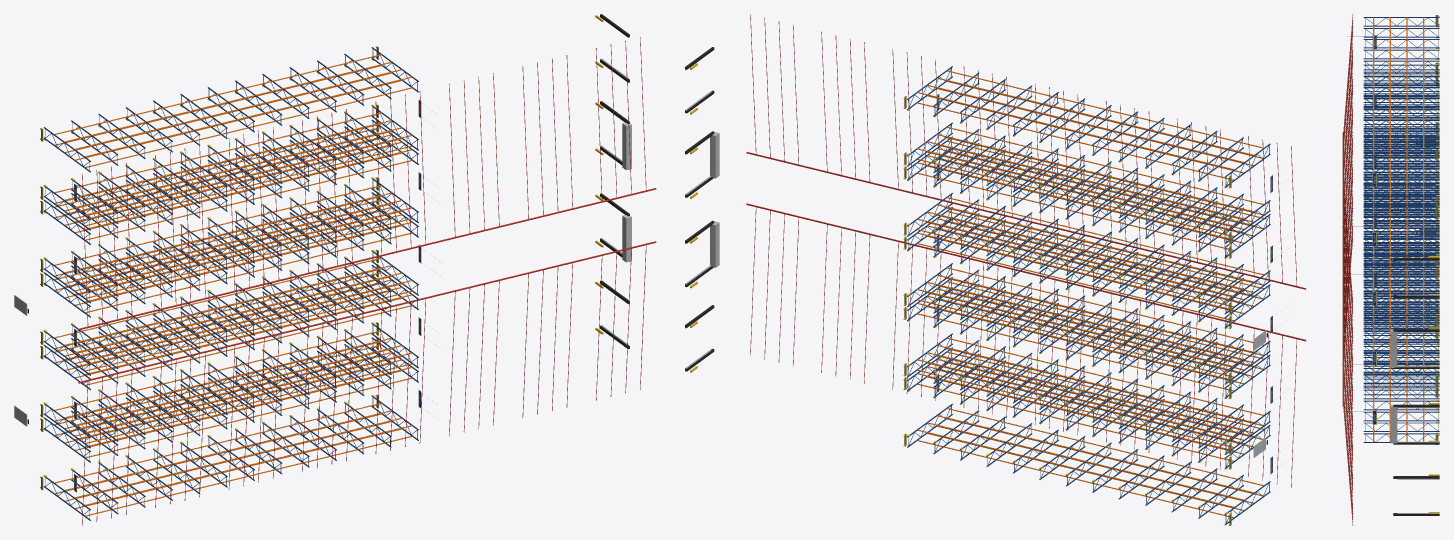
File: racking.gltf
The picture shows the model from 3 angles, left to right: view 1: azimuth 30°, elevation 25°; view 2: azimuth 150°, elevation 25°; view 3: azimuth 270°, elevation 25°; orthographic projection. The views are drawn at different scales.
Visible parts, largest first — view 1: racking; view 2: racking; view 3: racking.
Boxes of the visible parts, x1,y1,x2,y2 form: racking: [14, 14, 656, 525]; racking: [685, 14, 1306, 525]; racking: [1341, 14, 1439, 525].
Bounding box in the file's own units: 60 × 35.2 × 11.29.
Materials: 12 (10 with a texture image).
